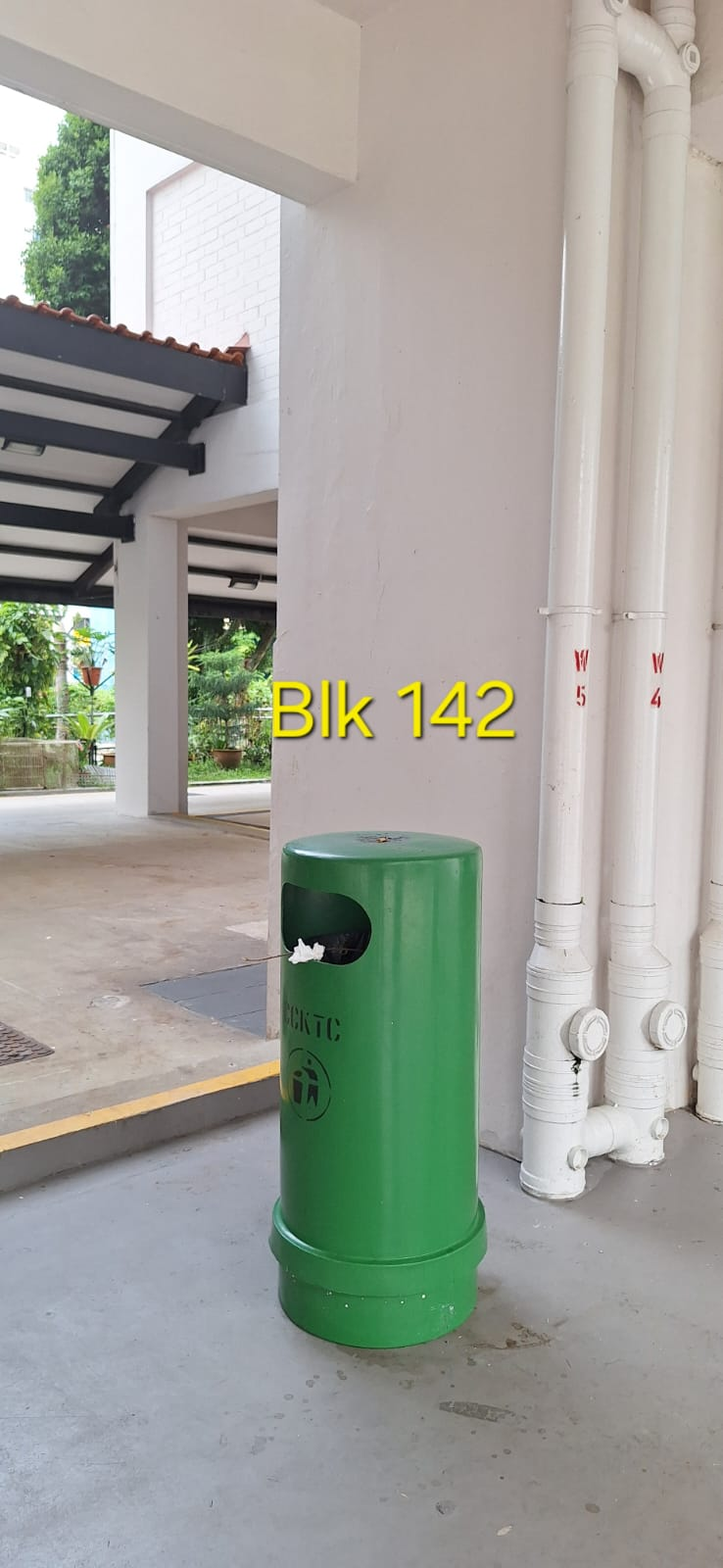bin_empty: (269, 829, 486, 1348)
